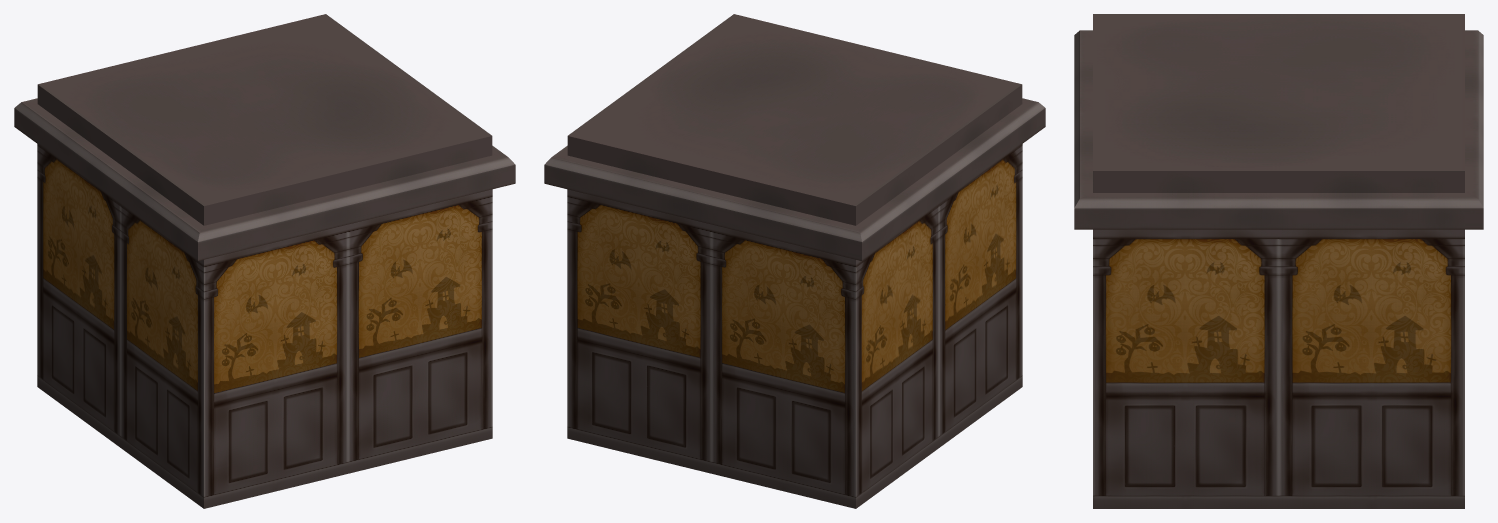
Rendered from FBX_wall.fbx.
The picture shows the model from 3 angles, left to right: view 1: azimuth 30°, elevation 25°; view 2: azimuth 150°, elevation 25°; view 3: azimuth 270°, elevation 25°; orthographic projection. The views are drawn at different scales.
Visible parts, largest first — view 1: pCube3; view 2: pCube3; view 3: pCube3.
Part boxes in pixels (x1,y1,x2,y2): pCube3: (14,14,515,508); pCube3: (544,14,1045,508); pCube3: (1074,14,1483,508).
Bounding box in the file's own units: 4.7 × 4.28 × 4.7.
